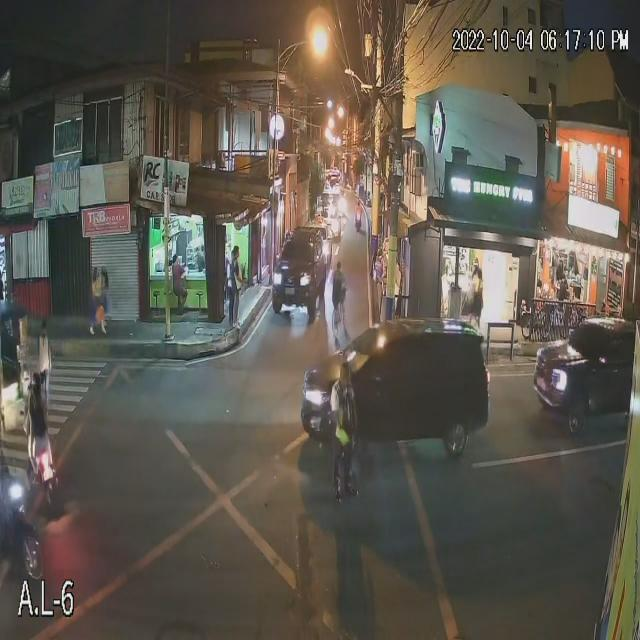helmet: (28, 372, 43, 386)
motorcycle: (0, 479, 46, 584), (24, 438, 70, 510), (353, 212, 365, 233)
rider: (28, 403, 50, 469), (356, 207, 361, 220)
